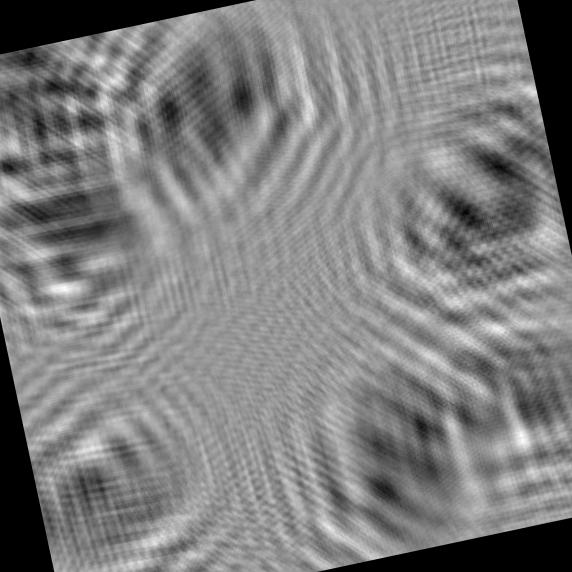K: (0, 134, 207, 381)
L: (17, 356, 270, 572), (386, 293, 572, 547)
M: (317, 57, 572, 371)
N: (72, 0, 369, 262), (253, 339, 507, 572), (0, 26, 168, 231)
